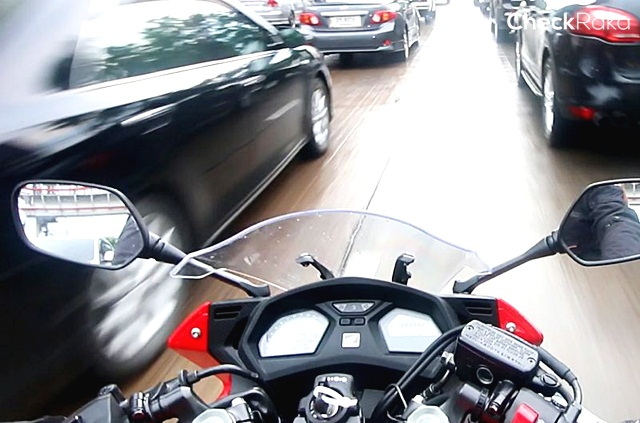motorcycle: (6, 167, 640, 422)
